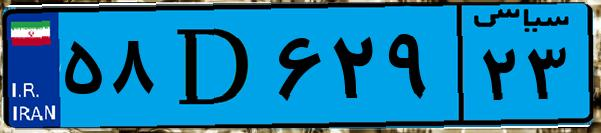2: (330, 28, 385, 110), (475, 38, 525, 113)
3: (525, 38, 570, 115)
5: (57, 26, 110, 100)
6: (270, 28, 330, 110)
8: (110, 28, 158, 98)
9: (385, 28, 445, 110)
D: (158, 12, 270, 120)
